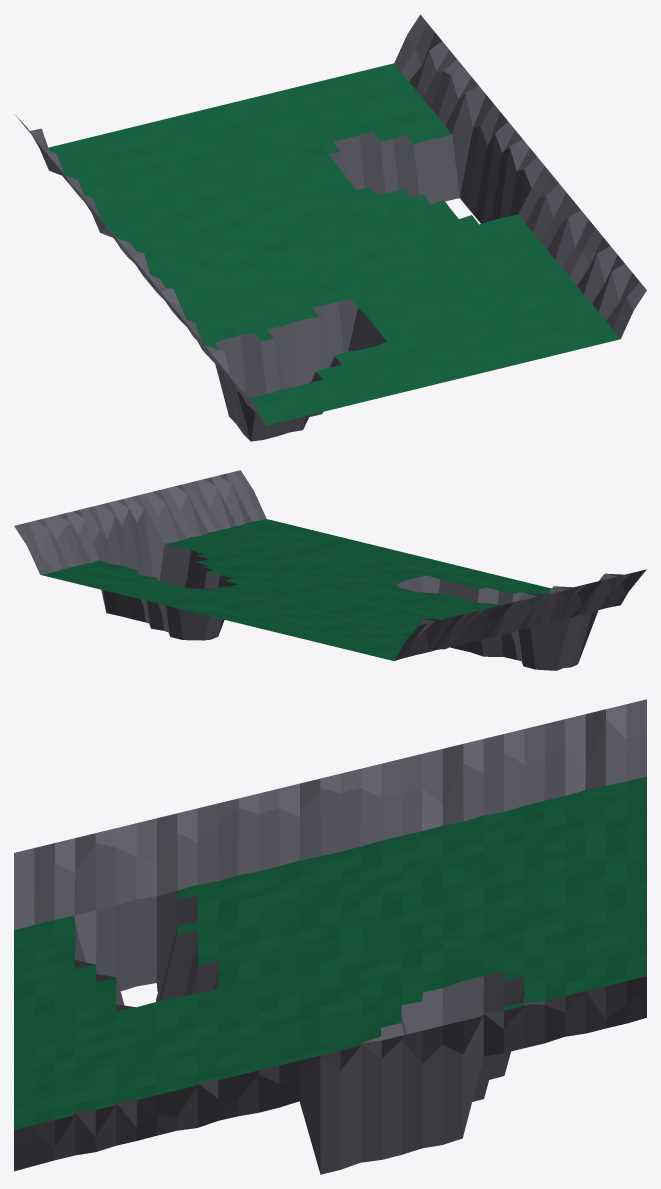
The model's file is HillPrefab2.fbx.
3 renders of one model, top to bottom at view 1: azimuth 30°, elevation 25°; view 2: azimuth 150°, elevation 25°; view 3: azimuth 270°, elevation 25°, orthographic. The views are drawn at different scales.
Visible parts, largest first — view 1: Plane; view 2: Plane; view 3: Plane.
Boxes of the visible parts, left/top/right/bottom form: Plane: left=15, top=14, right=646, bottom=441; Plane: left=14, top=470, right=646, bottom=670; Plane: left=14, top=699, right=646, bottom=1174.
Size of the model in its own units: 5000 by 2290 by 4830.
